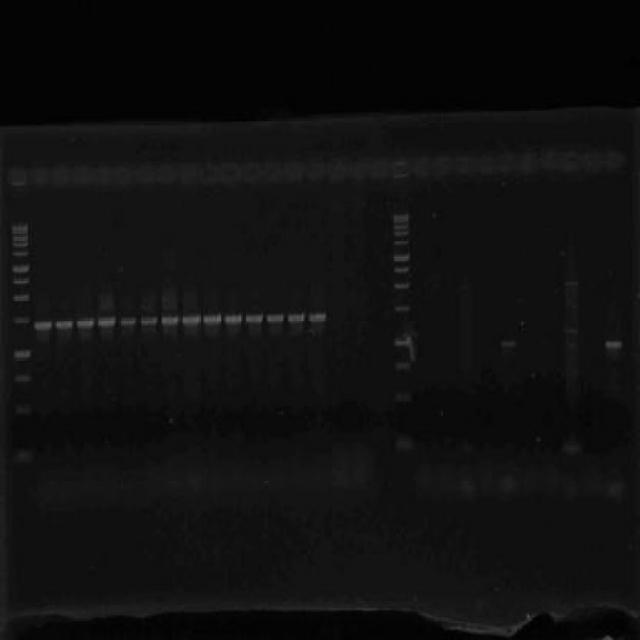B: (243, 308, 266, 327), (201, 308, 222, 328), (182, 309, 202, 328), (264, 309, 286, 326), (32, 316, 54, 333), (308, 308, 328, 326), (138, 310, 158, 328), (285, 308, 307, 324), (222, 312, 244, 328), (560, 441, 582, 457), (95, 314, 116, 330), (75, 316, 96, 332), (160, 313, 180, 329), (54, 316, 74, 332), (498, 336, 520, 349), (117, 314, 137, 328), (602, 338, 624, 350), (563, 322, 580, 335), (563, 278, 580, 288), (564, 342, 580, 351)
L: (0, 144, 640, 193)
M: (8, 213, 37, 474), (388, 206, 416, 459)
P: (10, 445, 35, 470), (393, 388, 415, 404), (394, 437, 416, 452), (13, 402, 33, 418), (13, 372, 32, 386), (393, 336, 416, 347), (12, 348, 32, 360), (10, 248, 30, 260), (12, 292, 32, 303), (11, 276, 31, 287), (10, 263, 30, 274), (393, 279, 412, 290), (394, 361, 412, 372), (13, 316, 30, 327), (11, 241, 31, 250), (392, 252, 410, 262), (394, 304, 411, 314), (393, 238, 410, 248), (10, 223, 30, 231), (392, 266, 410, 274), (392, 212, 410, 220), (12, 234, 30, 240), (392, 224, 410, 230), (393, 231, 410, 237), (393, 219, 410, 224), (12, 230, 28, 235)
Pc: (518, 148, 542, 178), (605, 148, 627, 180), (582, 148, 604, 178), (494, 149, 517, 177), (410, 152, 432, 180), (454, 152, 474, 182), (433, 152, 453, 182), (370, 153, 390, 182), (282, 160, 304, 186), (134, 162, 156, 188), (30, 162, 50, 190), (112, 160, 132, 188), (542, 147, 562, 175), (304, 160, 326, 185), (51, 162, 70, 190), (198, 162, 219, 187), (262, 160, 282, 186), (177, 162, 197, 188), (562, 150, 582, 176), (347, 156, 367, 182), (327, 158, 347, 184), (242, 162, 262, 187), (218, 162, 240, 184), (92, 162, 110, 188), (476, 151, 494, 177), (156, 164, 176, 187), (9, 164, 28, 188), (74, 162, 91, 188), (392, 159, 410, 181)
